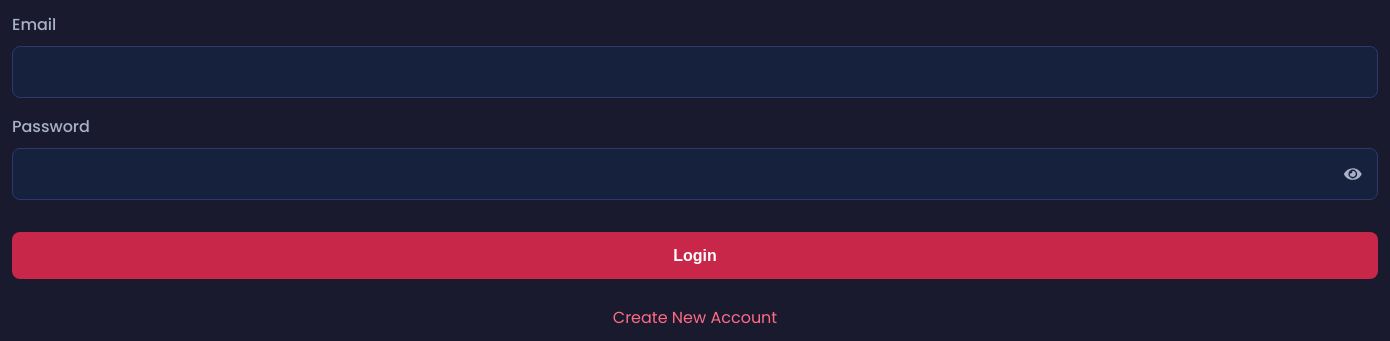
Test: Frontend Regression Test Suite › 3. Password toggle: typing updates input value without toggling visibility; clicking eye toggles between password and text
The width and height of the screenshot is (1390, 341).
// Type a password
In the password field labelled "Password": (695, 174) [12, 148, 1378, 200], type "SuperSecret123!"
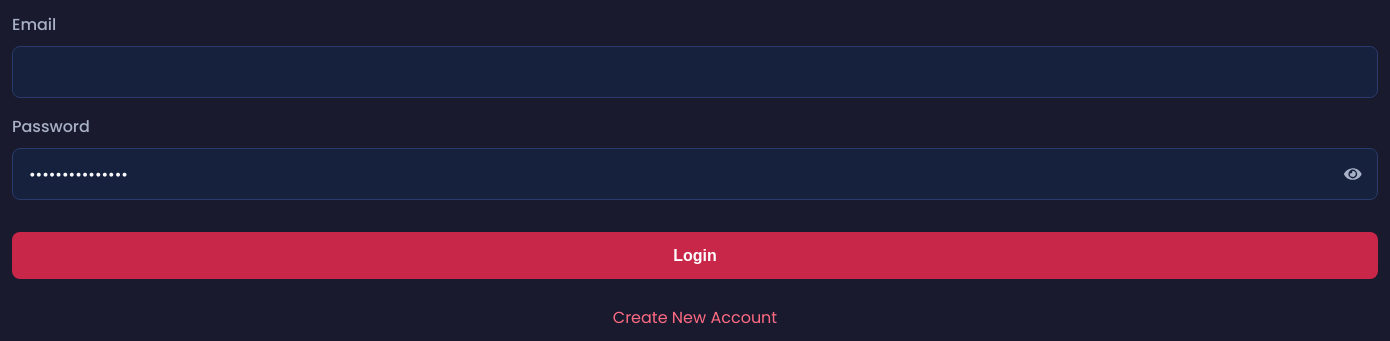
Click the button named "show password": click(1353, 174) [1338, 159, 1368, 189]
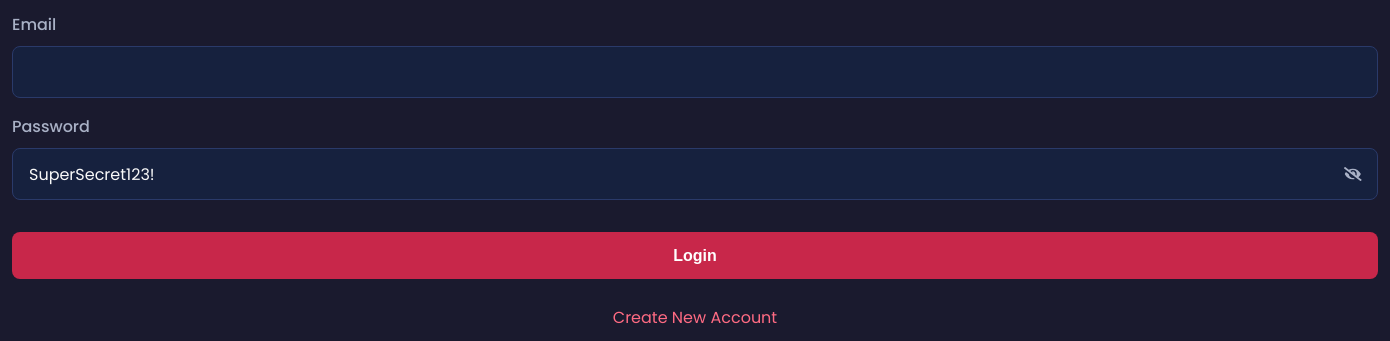
Result: the field labelled "Password" shows its text at [12, 148, 1378, 200]
// Click hide password button
Click the button named "hide password": click(1353, 174) [1338, 159, 1368, 189]
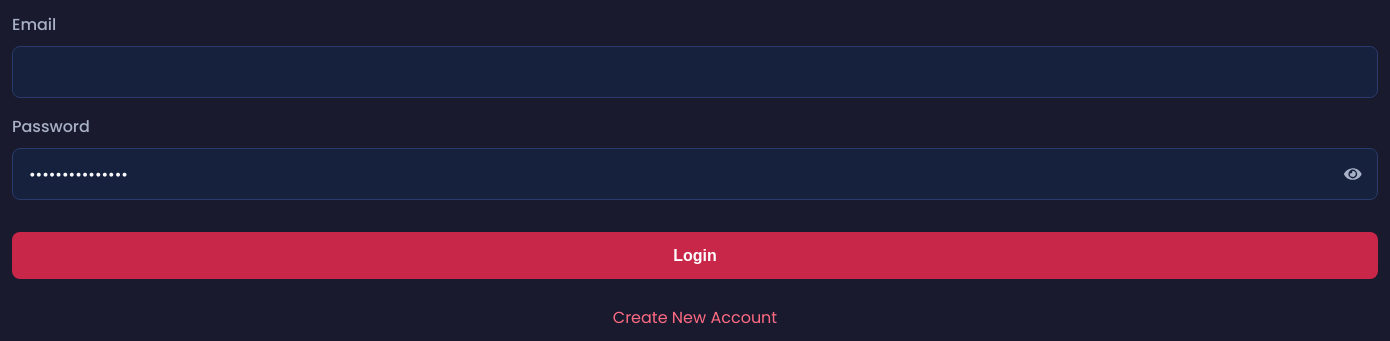
Result: the password field labelled "Password" hides its text at [12, 148, 1378, 200]
